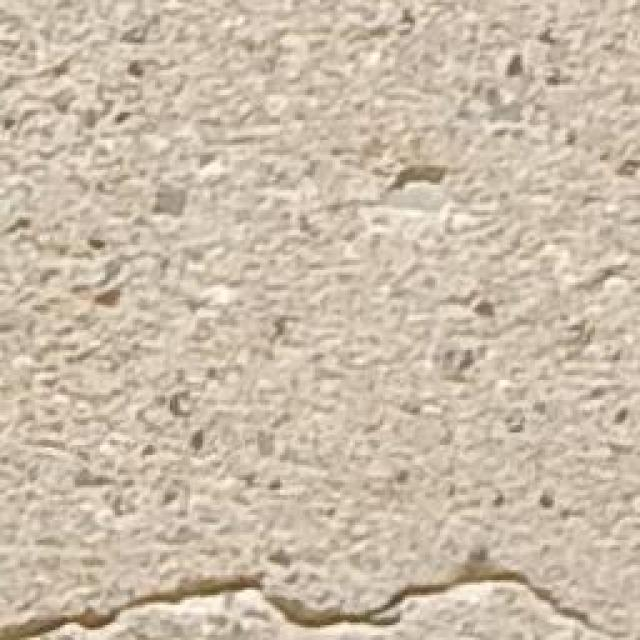concrete-crack: (262, 570, 618, 640), (0, 575, 262, 640)
